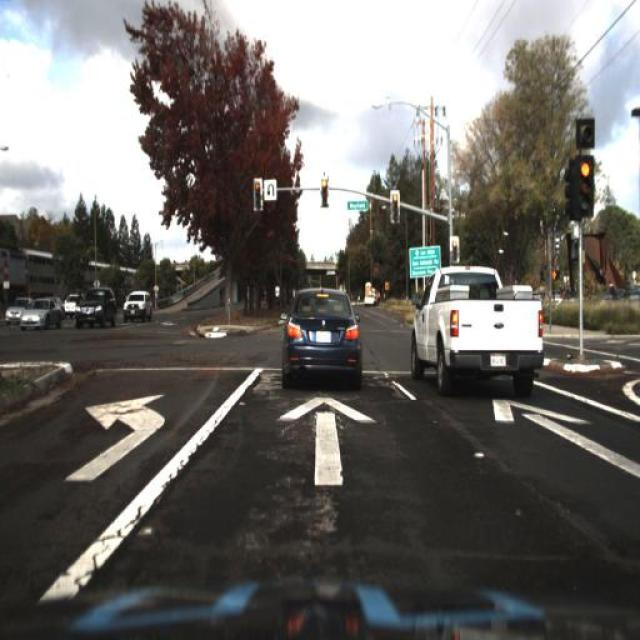car: (408, 266, 544, 399), (282, 287, 363, 387), (76, 284, 113, 330), (21, 296, 60, 333), (125, 286, 154, 324), (6, 298, 27, 322)
trafficLight-RedLeft: (575, 156, 595, 226), (386, 189, 398, 229), (448, 236, 459, 268), (318, 178, 328, 212)
trafficLight-Yellow: (251, 176, 264, 207)
